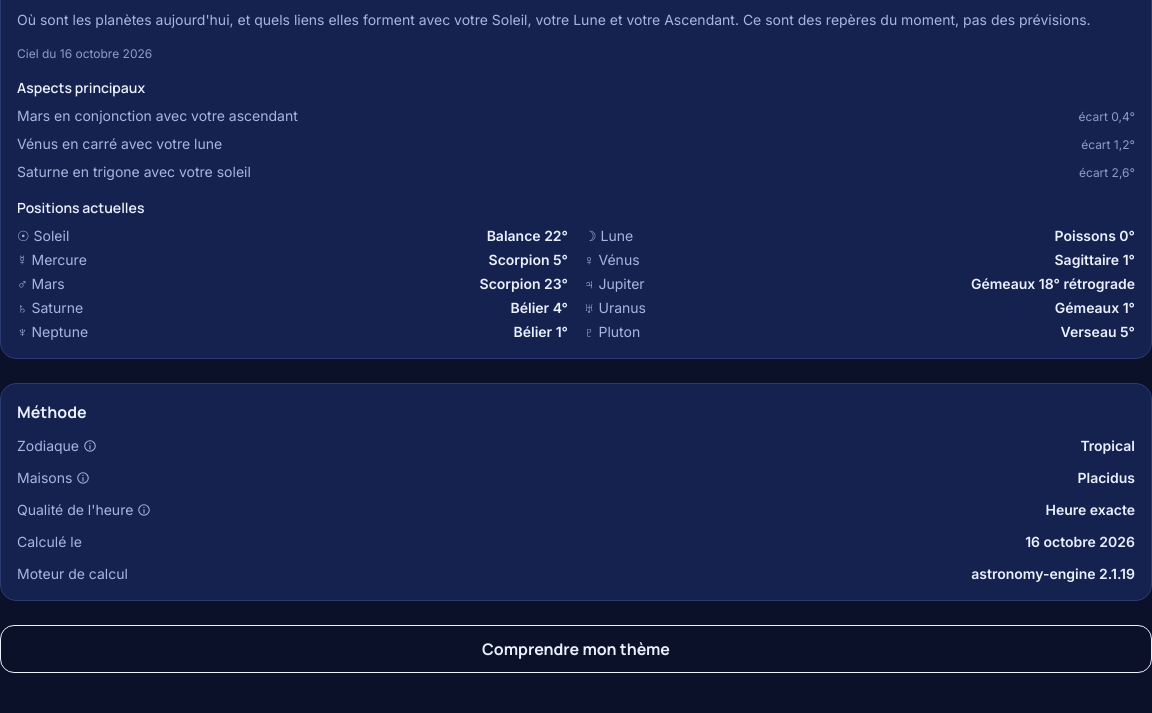
Scenario: MyChart › ouvre la modale « Comprendre mon thème »
(page scrolled)
Click the button "Comprendre mon thème" at {"x": 576, "y": 649}, box [0,625,1151,673]
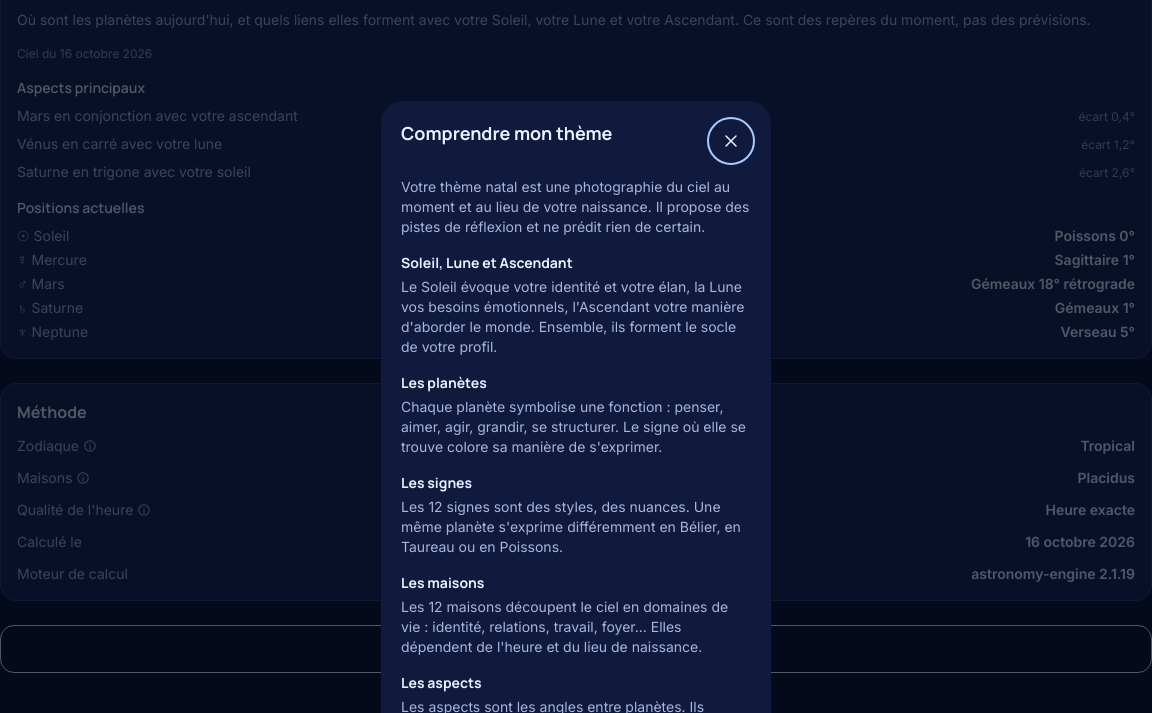
Expected: the dialog "Comprendre mon thème" is shown, [381,101,771,712]
Click the button named "Fermer" at {"x": 731, "y": 141}, box [711,121,751,161]
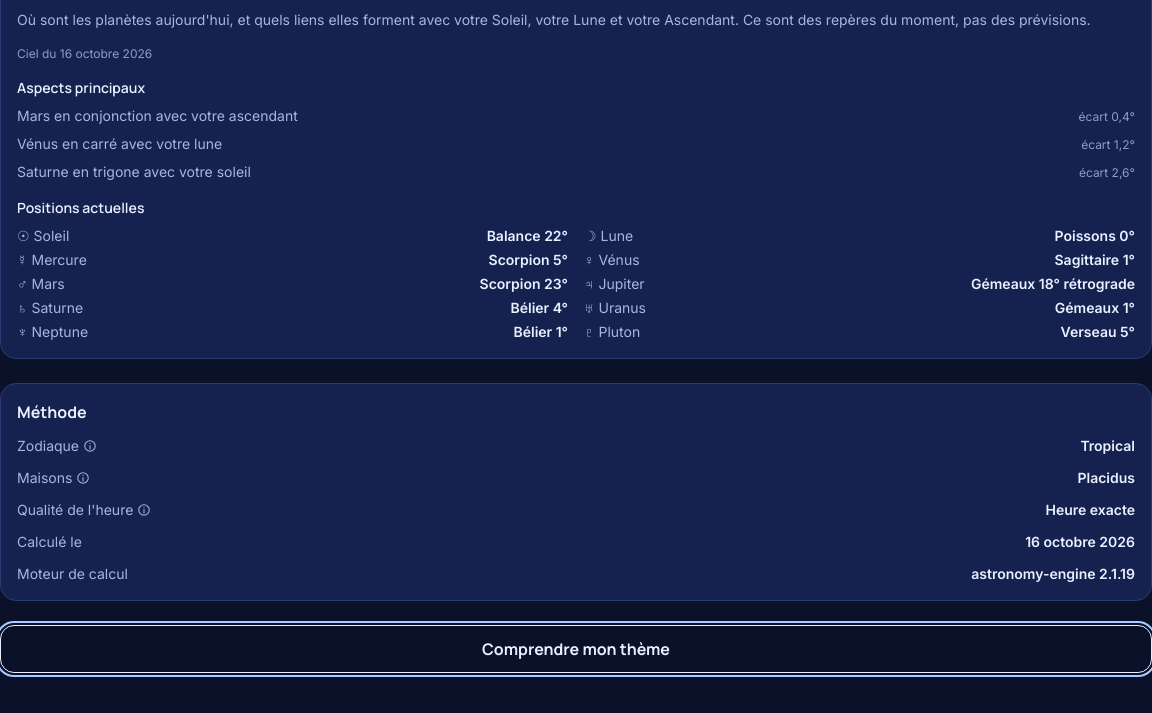
Expected: the dialog is gone
